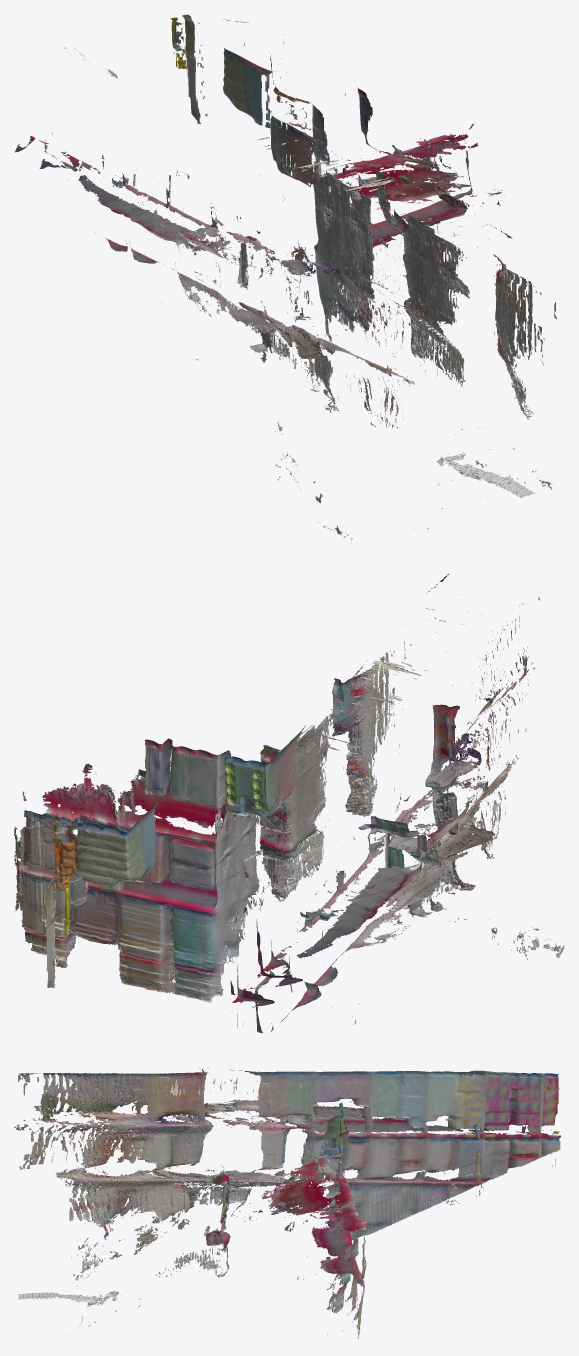
Rendered from room-1.glb.
3 views of the same model, one above another, from view 1: azimuth 30°, elevation 25°; view 2: azimuth 150°, elevation 25°; view 3: azimuth 270°, elevation 25° (orthographic). The views are drawn at different scales.
Parts seen in each view (by area): view 1: geometry_0; view 2: geometry_0; view 3: geometry_0.
Part boxes in pixels (left/top/right/bottom): geometry_0: left=15, top=14, right=556, bottom=543; geometry_0: left=14, top=574, right=564, bottom=1033; geometry_0: left=14, top=1068, right=560, bottom=1338.
Bounding box in the file's own units: 11.73 × 9.27 × 20.58.
